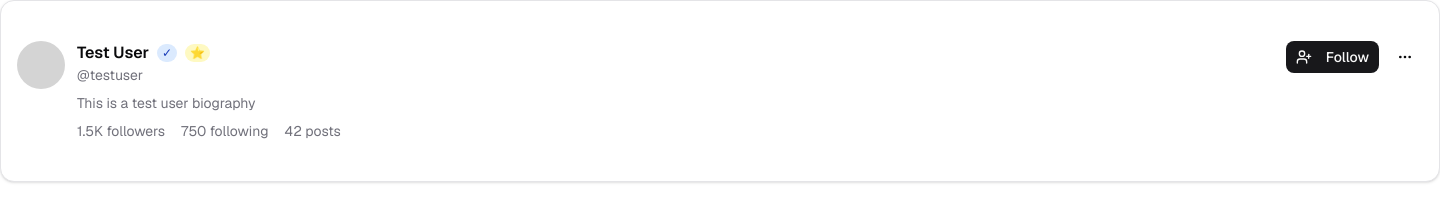
UserCard › Loading states › shows loading spinner when follow action is in progress
Click the button "Follow" at (1332, 57), box [1286, 41, 1379, 73]
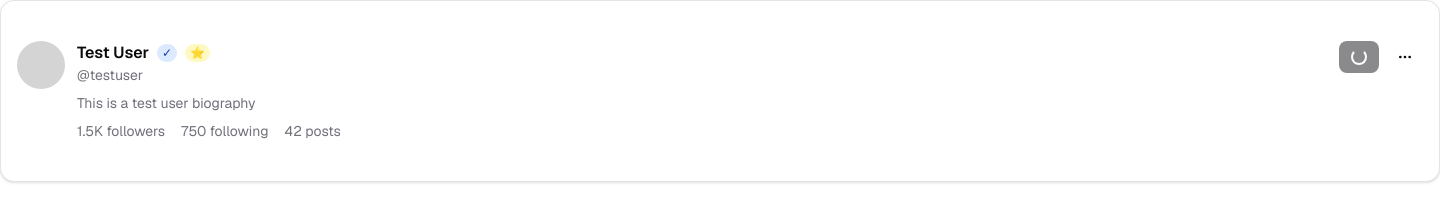
Expected: the element with class "animate-spin" is shown, [1351, 49, 1367, 65]
Expected: the 1st button "Follow" is disabled, [1339, 41, 1379, 73]
